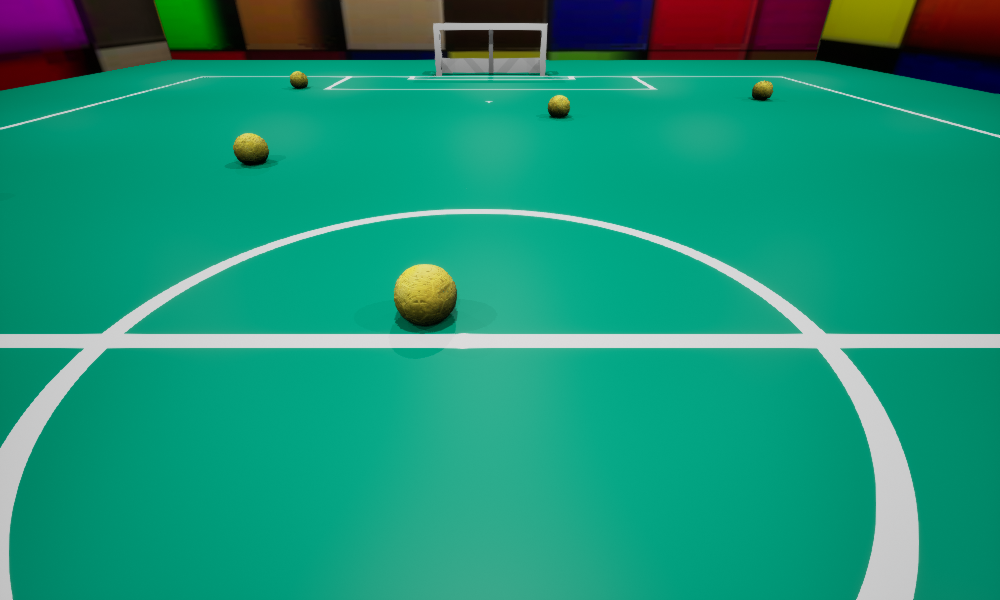b: (394, 264, 456, 324), (233, 133, 268, 164), (548, 95, 569, 117), (752, 80, 772, 99), (290, 71, 307, 88)
g: (433, 23, 547, 75)
